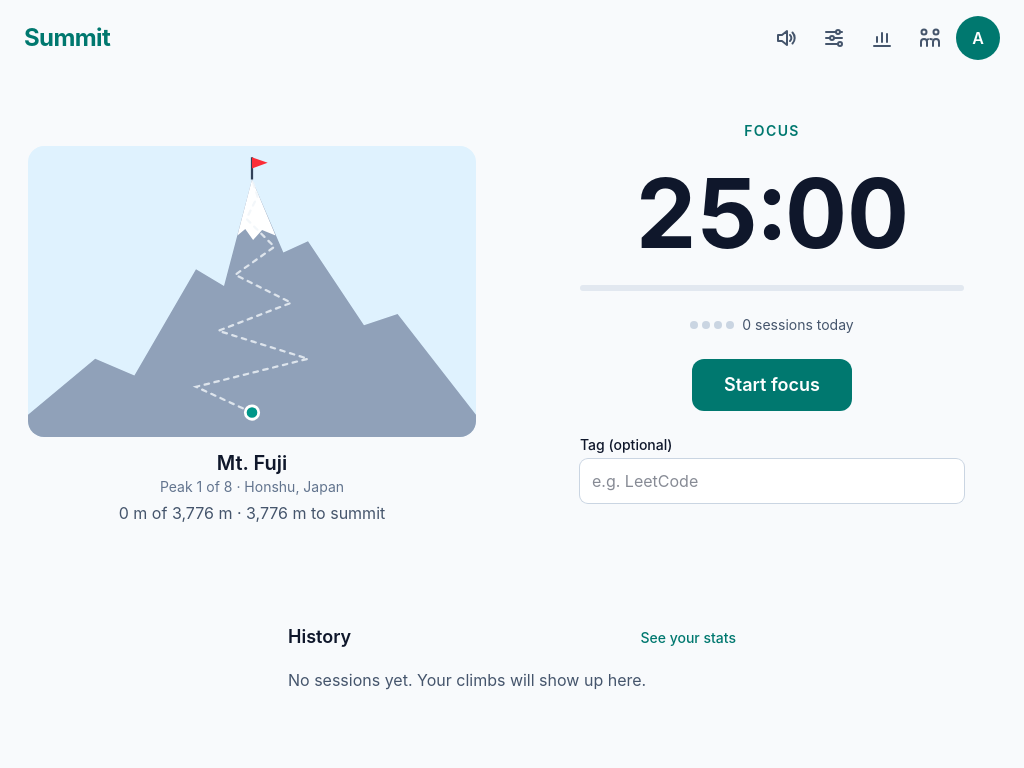
Test: signed in › reports giving up
Expected: the link named "Account (Ana)" is shown, [956,16,1000,60]
Expected: the picture named "Climber at" is shown, [28,146,476,437]
Click the button "Start focus". click: (772, 384)
box: [692,358,852,410]
Wait 300000 ms
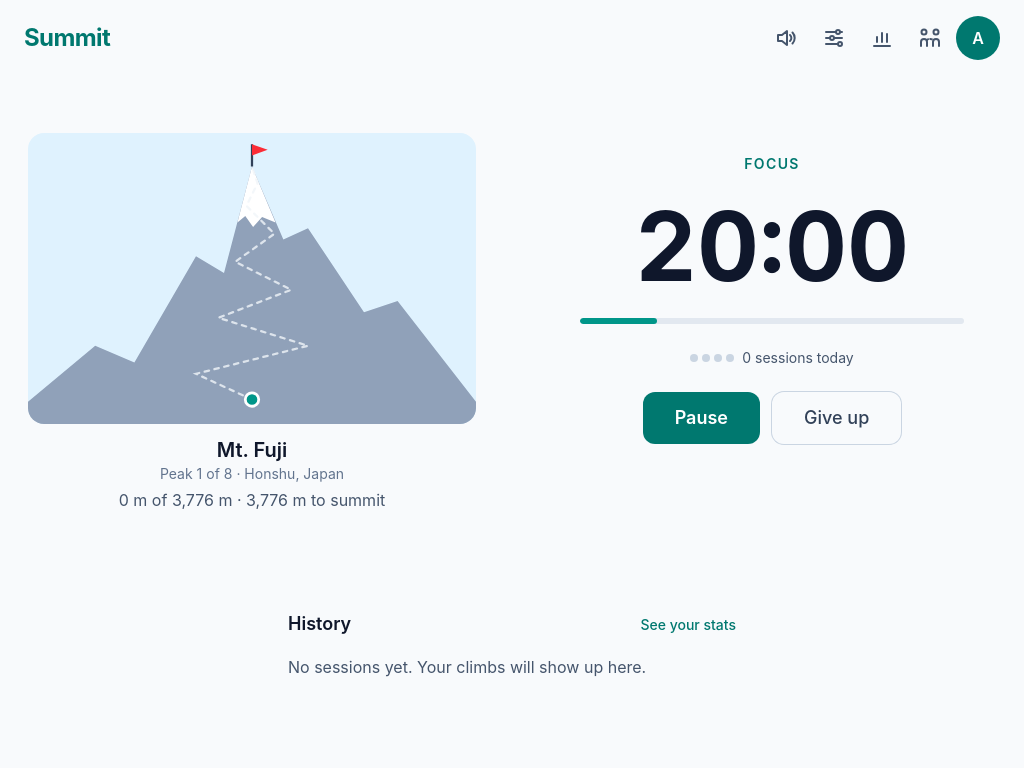
Click the button "Give up". click: (837, 418)
box: [772,392,901,444]
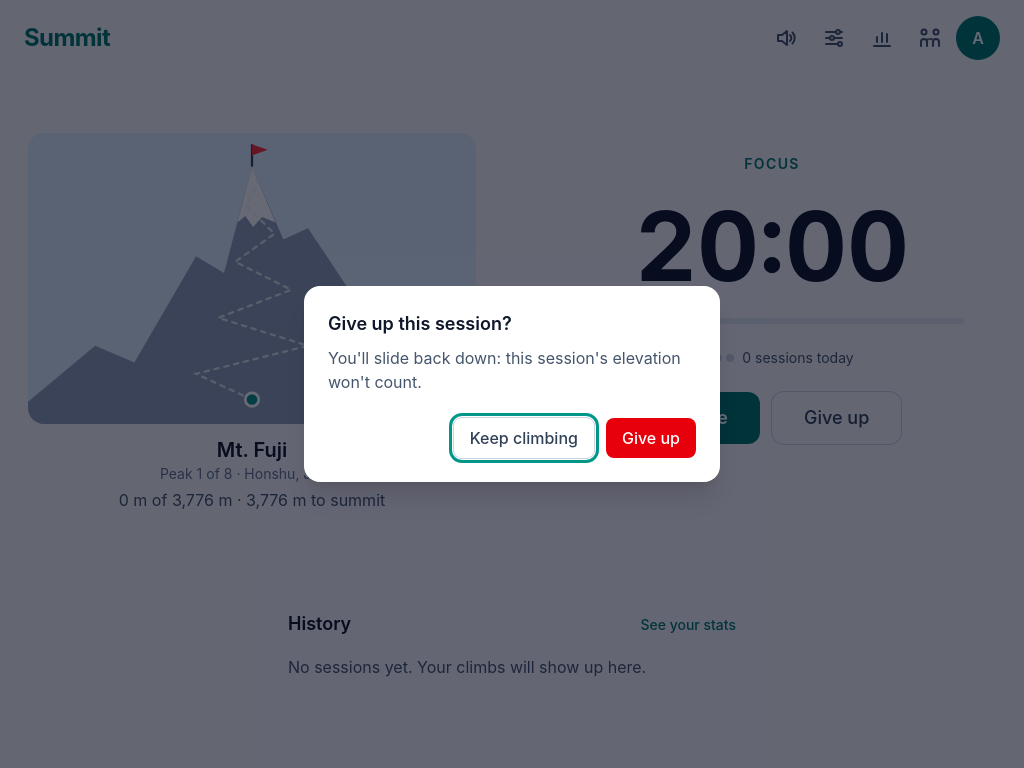
Click the button "Give up". click: (651, 438)
box: [606,418,696,458]
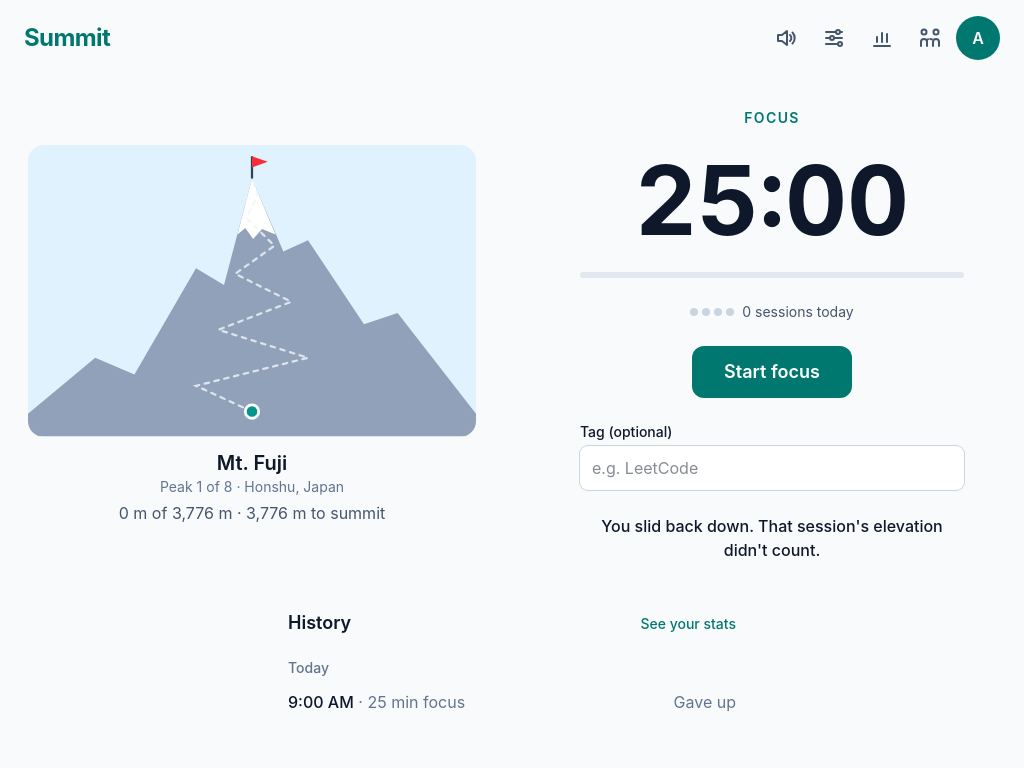
Expected: the text "Gave up" is shown, [674,690,736,714]
